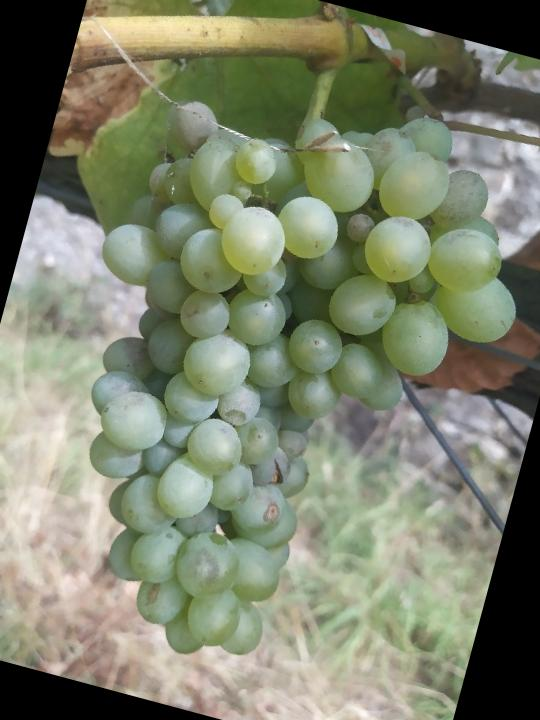grape: (0, 41, 540, 719)
